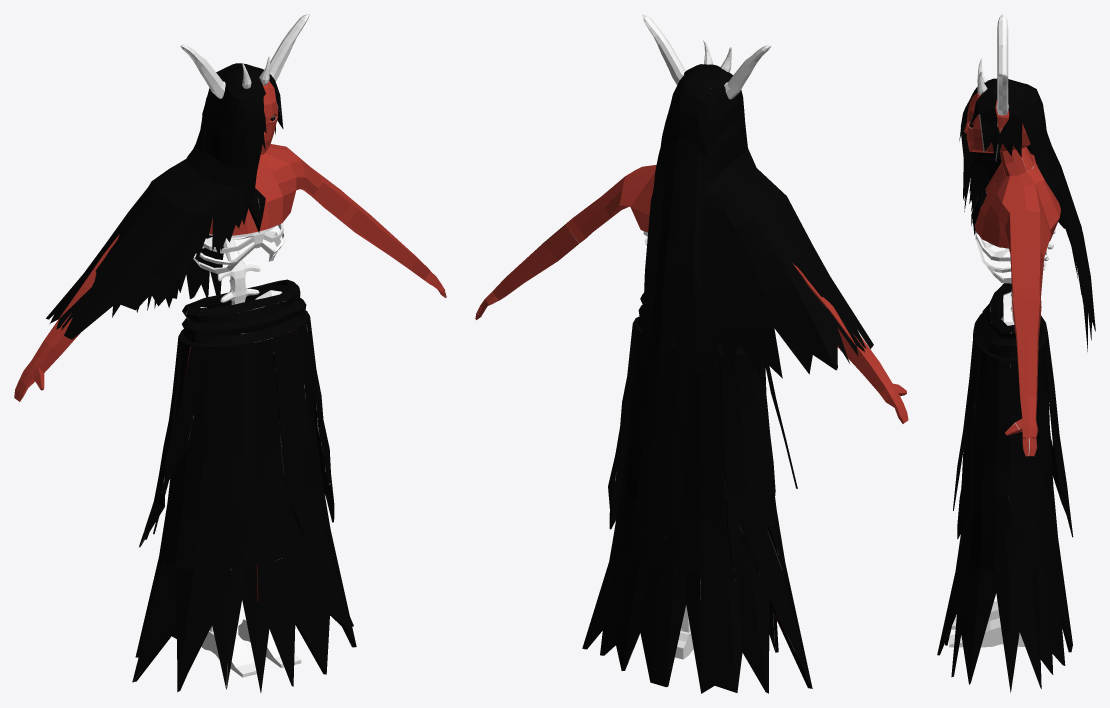
File: cursed queen.fbx
3 views of the same model, side by side, from view 1: azimuth 30°, elevation 25°; view 2: azimuth 150°, elevation 25°; view 3: azimuth 270°, elevation 25° (orthographic). The views are drawn at different scales.
Visible parts, largest first — view 1: cursed_queen; view 2: cursed_queen; view 3: cursed_queen.
Boxes of the visible parts, x1=… form: cursed_queen: x1=14, y1=14, x2=446, y2=692; cursed_queen: x1=475, y1=14, x2=908, y2=693; cursed_queen: x1=937, y1=14, x2=1095, y2=693.
Bounding box in the file's own units: 190 × 270 × 64.
Materials: 1 (1 with a texture image).
